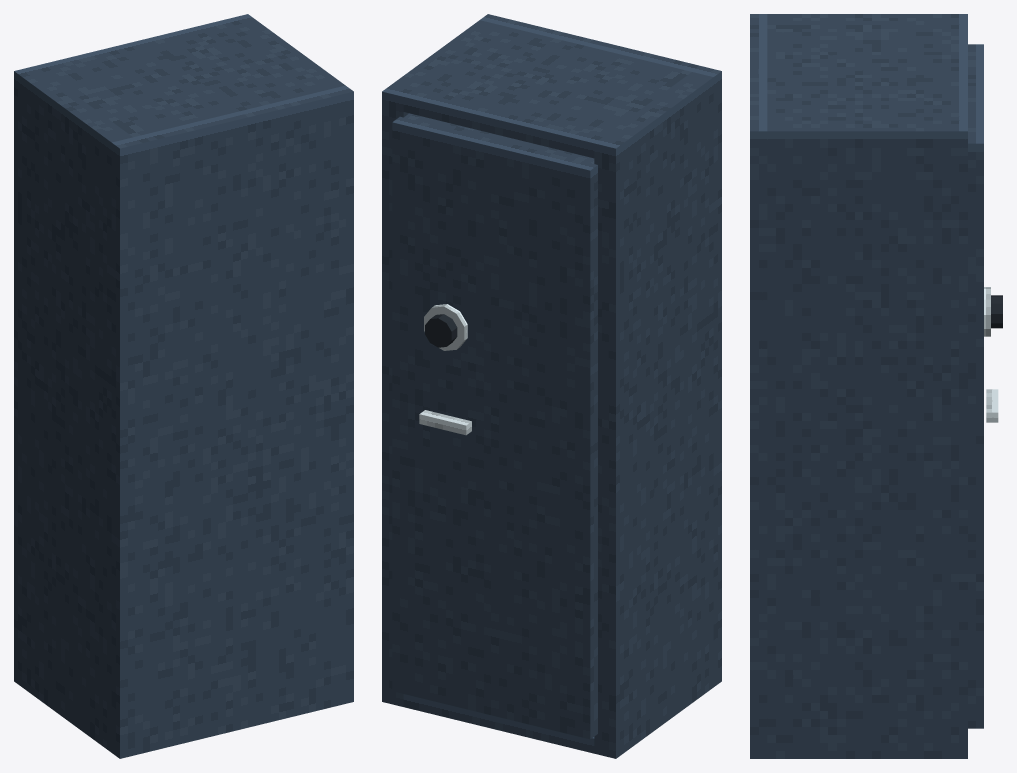
Rendered from f_gunsafe_ml.glb.
3 renders of one model, left to right at view 1: azimuth 30°, elevation 25°; view 2: azimuth 150°, elevation 25°; view 3: azimuth 270°, elevation 25°, orthographic. The views are drawn at different scales.
Visible parts, largest first — view 1: block_back, block_side--0.29500000000000004, block_shelf-1, block_side-0.29500000000000004; view 2: block_armored-door, block_side--0.29500000000000004, block_shelf-1, block_side-0.29500000000000004, block_back, block_shelf-0, block_combination-dial, block_numbered-dial-ring, block_handle; view 3: block_side-0.29500000000000004, block_shelf-1, block_back, block_armored-door, block_side--0.29500000000000004, block_handle.
Boxes of the visible parts, <box> form: block_back: <box>111,85,353,758</box>; block_side--0.29500000000000004: <box>14,66,132,752</box>; block_shelf-1: <box>36,19,323,137</box>; block_side-0.29500000000000004: <box>226,14,345,90</box>; block_armored-door: <box>392,113,597,739</box>; block_side--0.29500000000000004: <box>594,72,713,758</box>; block_shelf-1: <box>403,25,691,158</box>; block_side-0.29500000000000004: <box>382,20,500,706</box>; block_back: <box>480,14,721,686</box>; block_shelf-0: <box>403,694,594,753</box>; block_combination-dial: <box>425,314,457,347</box>; block_numbered-dial-ring: <box>424,304,467,350</box>; block_handle: <box>419,410,471,435</box>; block_side-0.29500000000000004: <box>767,120,967,758</box>; block_shelf-1: <box>767,25,967,120</box>; block_back: <box>750,14,767,758</box>; block_armored-door: <box>968,44,983,728</box>; block_side--0.29500000000000004: <box>767,14,967,24</box>; block_handle: <box>986,389,998,422</box>.
Size of the model in its own units: 0.65 by 1.62 by 0.5915.
1 material, 1 textured.
